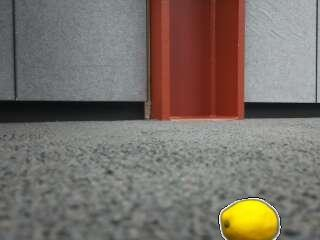lemon: (222, 200, 278, 240)
